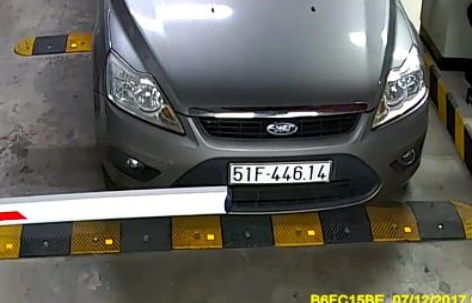plate: (224, 156, 334, 187)
